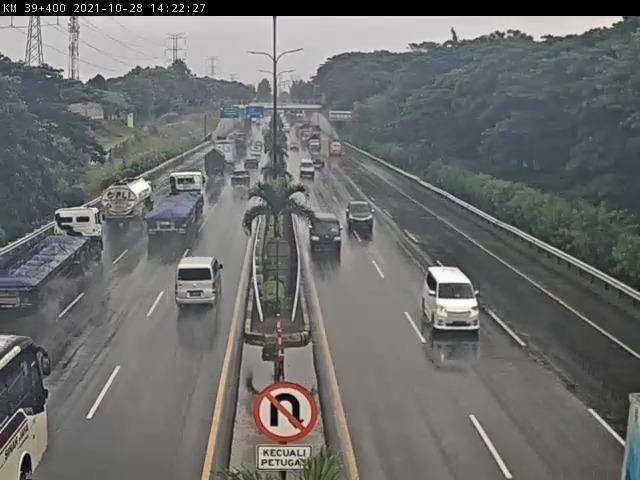bus: (1, 327, 51, 480)
car: (422, 267, 485, 336), (173, 257, 227, 314), (312, 214, 347, 253), (345, 196, 378, 231)
truck: (1, 207, 105, 321), (139, 173, 208, 250), (96, 181, 154, 230), (203, 150, 227, 181)
